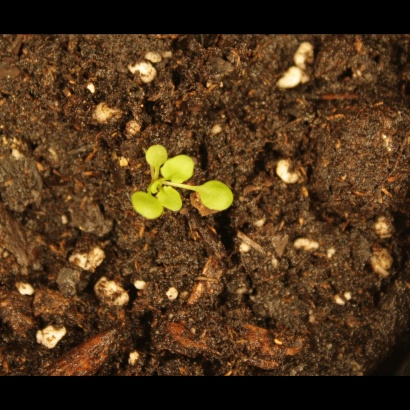leaf: (198, 179, 241, 218), (162, 152, 196, 185), (131, 190, 164, 223), (140, 142, 170, 170), (159, 186, 185, 215)
